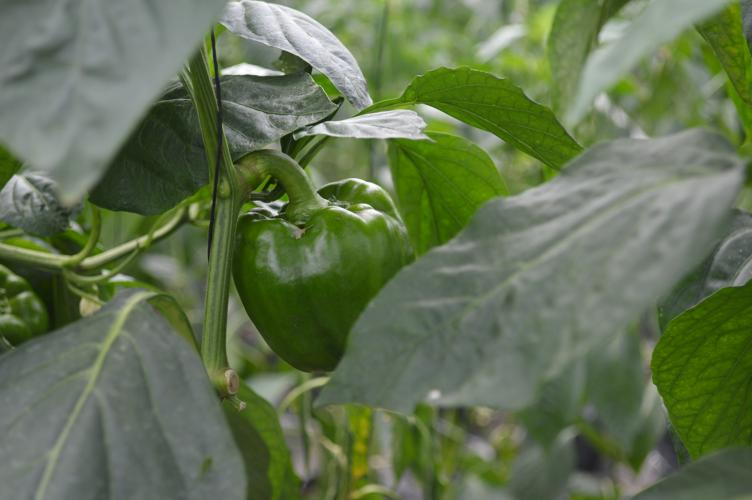BellPepper: (232, 175, 408, 367)
